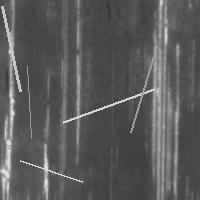scratches: (149, 2, 182, 198), (58, 84, 159, 127), (126, 41, 162, 137), (1, 1, 17, 198), (71, 1, 86, 165), (0, 1, 25, 96), (15, 156, 87, 187), (39, 77, 52, 199), (22, 61, 36, 143)
